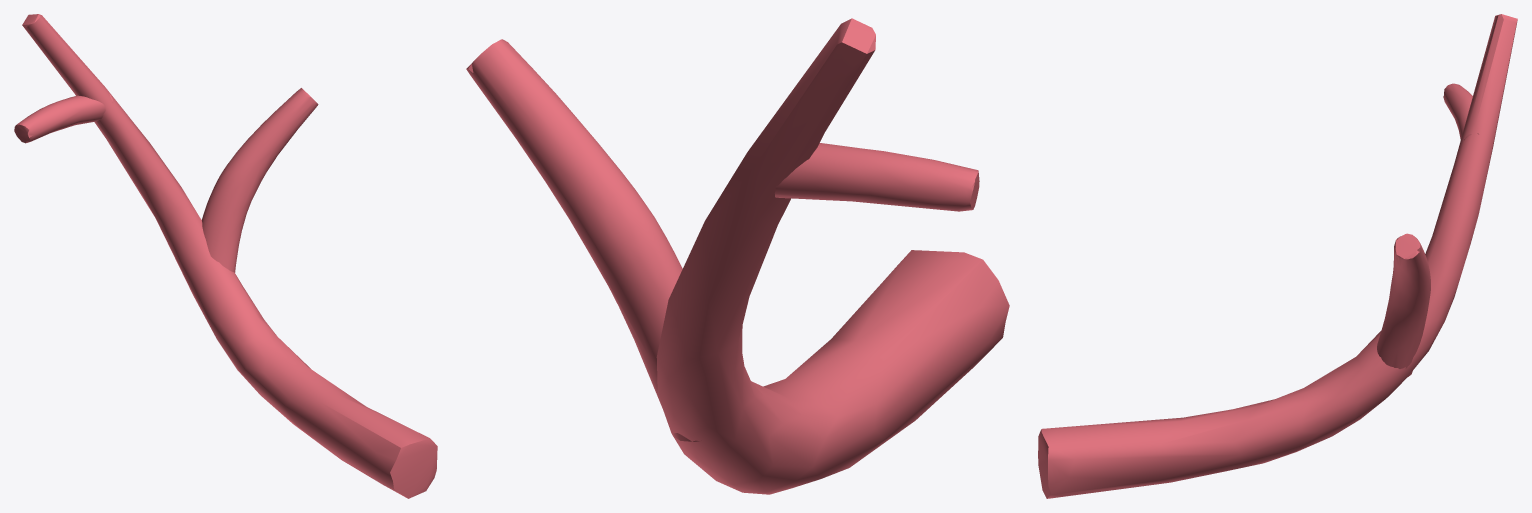
File: fma68709_cx185.glb
3 views of the same model, side by side, from view 1: azimuth 30°, elevation 25°; view 2: azimuth 150°, elevation 25°; view 3: azimuth 270°, elevation 25° (orthographic). The views are drawn at different scales.
Parts seen in each view (by area): view 1: FMA68709_CX185; view 2: FMA68709_CX185; view 3: FMA68709_CX185.
Boxes of the visible parts, x1=… form: FMA68709_CX185: x1=14, y1=14, x2=437, y2=498; FMA68709_CX185: x1=466, y1=18, x2=1009, y2=494; FMA68709_CX185: x1=1038, y1=14, x2=1517, y2=498.
Bounding box in the file's own units: 0.029 × 0.0367 × 0.0405.
